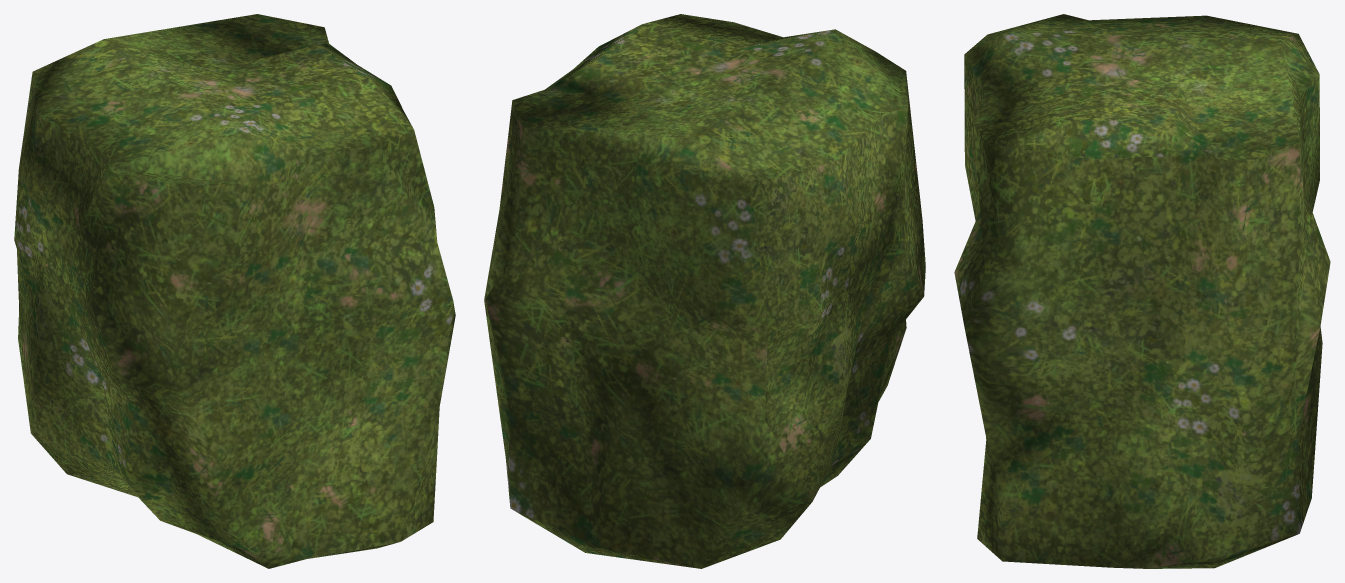
3 views of the same model, side by side, from view 1: azimuth 30°, elevation 25°; view 2: azimuth 150°, elevation 25°; view 3: azimuth 270°, elevation 25° (orthographic).
Parts seen in each view (by area): view 1: t1_ar303_model_mesh; view 2: t1_ar303_model_mesh; view 3: t1_ar303_model_mesh.
Part boxes in pixels (left/top/right/bottom): t1_ar303_model_mesh: left=14, top=14, right=455, bottom=568; t1_ar303_model_mesh: left=484, top=14, right=925, bottom=568; t1_ar303_model_mesh: left=954, top=14, right=1330, bottom=568.
Bounding box in the file's own units: 3.84 × 4.96 × 3.7.
1 material, 1 textured.
